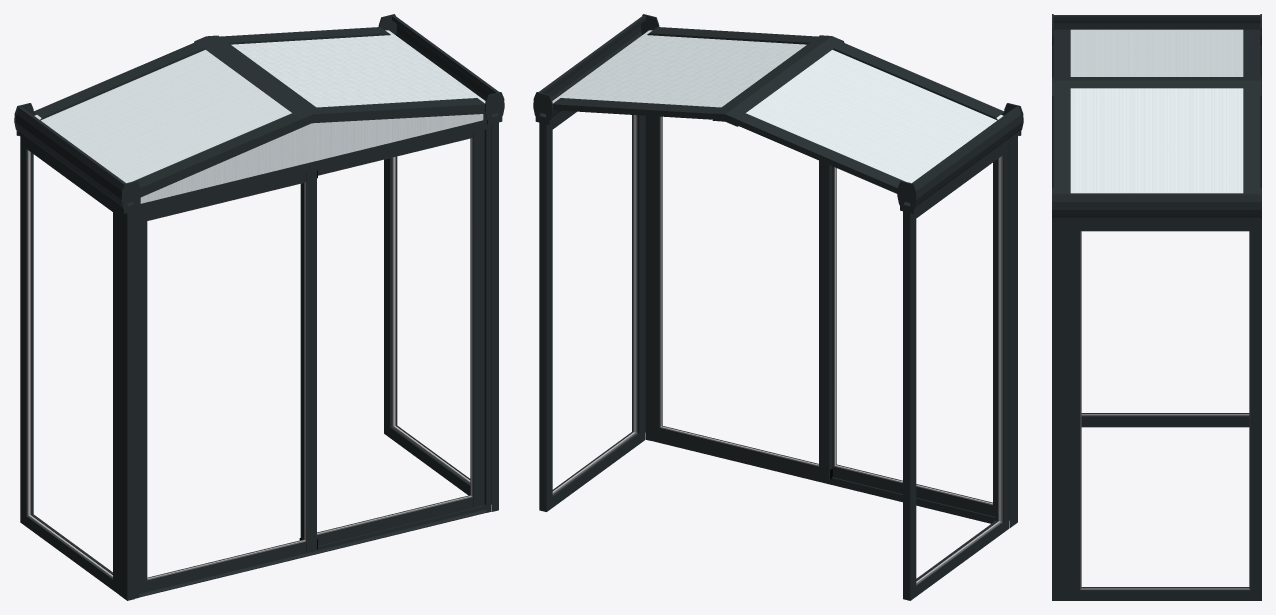
File: 13440_2pans.fbx
3 renders of one model, left to right at view 1: azimuth 30°, elevation 25°; view 2: azimuth 150°, elevation 25°; view 3: azimuth 270°, elevation 25°, orthographic. The views are drawn at different scales.
Visible parts, largest first — view 1: priximbattable_net_sas_d_entree_13440_sas_d_entree_2_x_1m_to, folha1, frame, folha2; view 2: priximbattable_net_sas_d_entree_13440_sas_d_entree_2_x_1m_to, folha2, frame, folha1; view 3: priximbattable_net_sas_d_entree_13440_sas_d_entree_2_x_1m_to.
Part boxes in pixels (<box>): priximbattable_net_sas_d_entree_13440_sas_d_entree_2_x_1m_to: <box>14,14,504,600</box>; folha1: <box>139,170,317,593</box>; frame: <box>134,123,490,598</box>; folha2: <box>299,130,482,545</box>; priximbattable_net_sas_d_entree_13440_sas_d_entree_2_x_1m_to: <box>533,14,1023,600</box>; folha2: <box>650,116,832,479</box>; frame: <box>645,115,1009,523</box>; folha1: <box>832,161,995,516</box>; priximbattable_net_sas_d_entree_13440_sas_d_entree_2_x_1m_to: <box>1052,14,1261,600</box>.
Size of the model in its own units: 206 by 227 by 100.
Materials: 1 (1 with a texture image).
